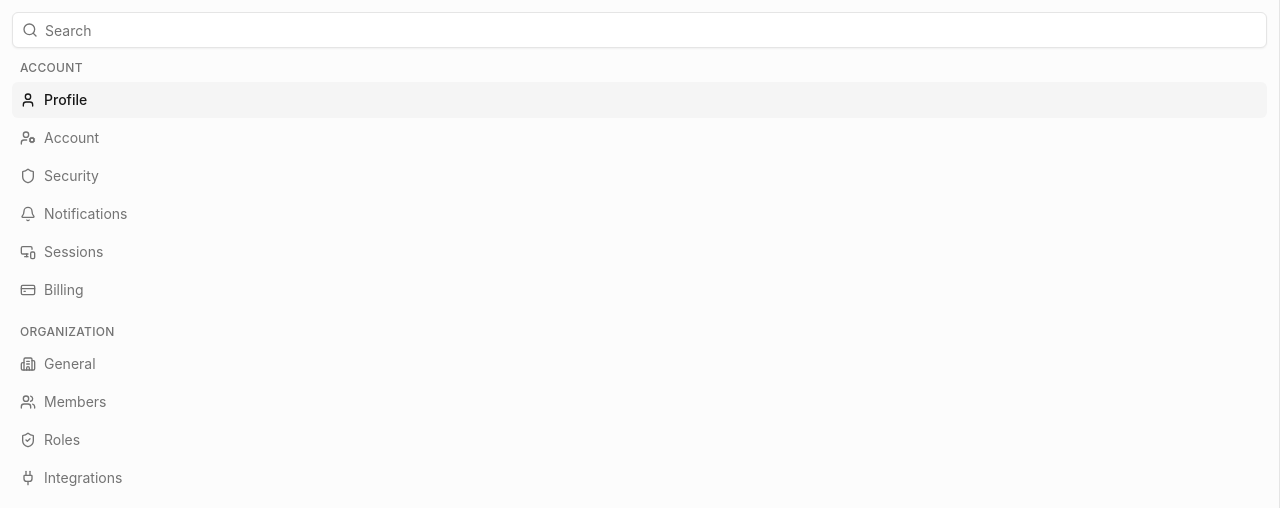
SettingsNav › filters nav items by the search query
Type "passkey" into the search field with test id "settings-search".
click(640, 30); type("passkey")  # box [12,12,1267,48]
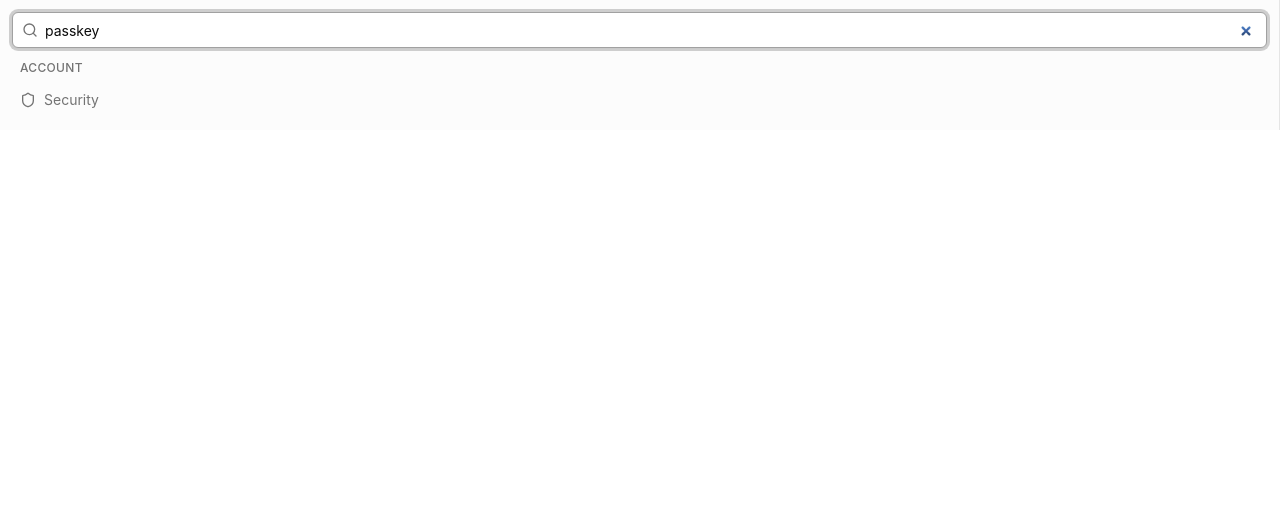
expect the button with test id "settings-nav-account-security" is shown: met, box [12,82,1267,118]
expect the button with test id "settings-nav-account-profile" is gone: met
